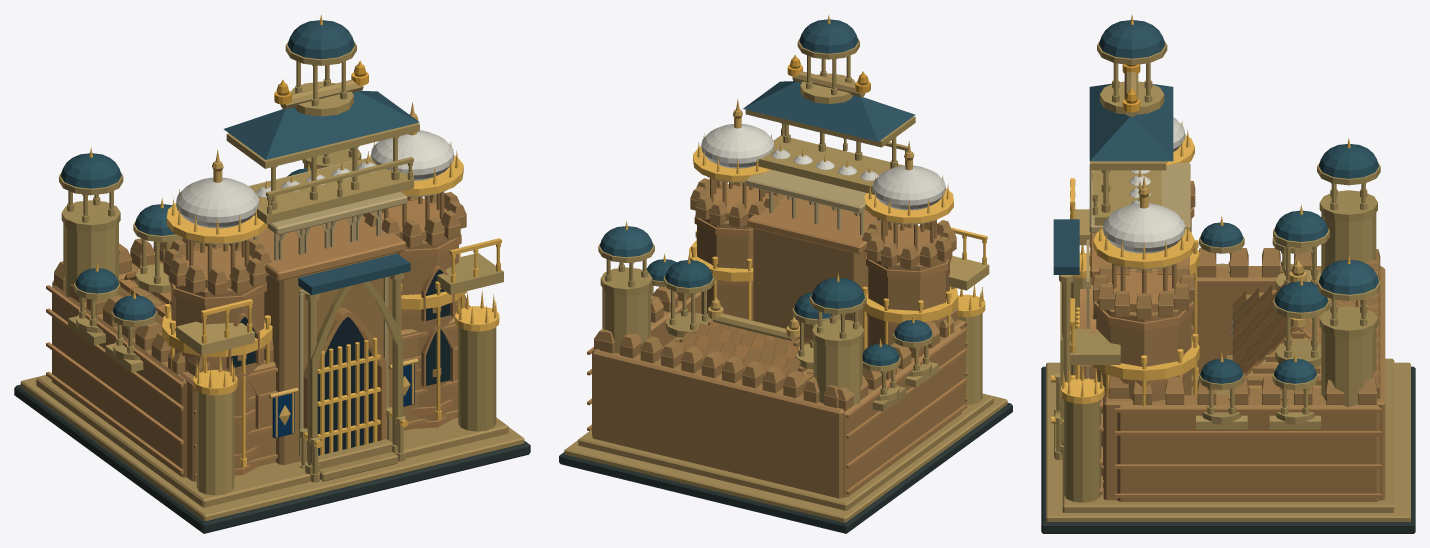
3 renders of one model, left to right at view 1: azimuth 30°, elevation 25°; view 2: azimuth 150°, elevation 25°; view 3: azimuth 270°, elevation 25°, orthographic. The views are drawn at different scales.
Parts seen in each view (by area): view 1: barracks_L14_0, barracks_L14_1; view 2: barracks_L14_0, barracks_L14_1; view 3: barracks_L14_0, barracks_L14_1.
Boxes of the visible parts, x1,y1,x2,y2 form: barracks_L14_0: [14, 20, 530, 533]; barracks_L14_1: [89, 15, 501, 467]; barracks_L14_0: [559, 19, 1012, 533]; barracks_L14_1: [625, 14, 987, 351]; barracks_L14_0: [1041, 20, 1415, 533]; barracks_L14_1: [1051, 14, 1350, 423].
Size of the model in its own units: 5.6 by 7.29 by 5.6.
